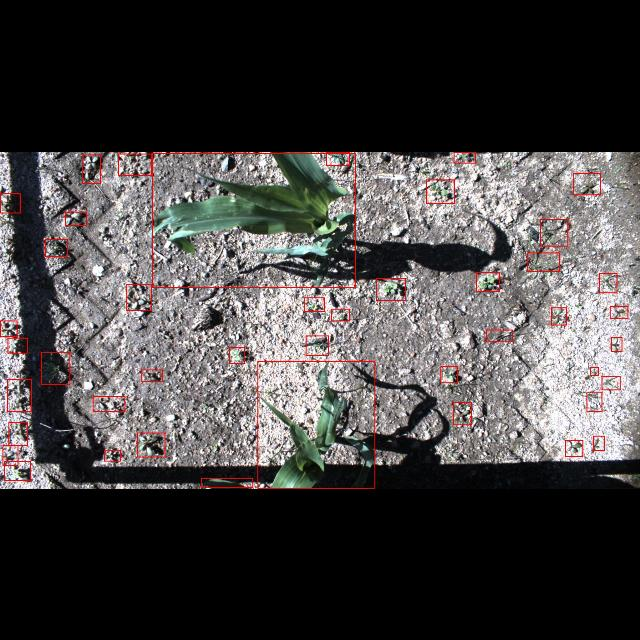crop: (152, 152, 356, 288), (258, 360, 374, 488), (201, 478, 253, 487)
weed: (41, 352, 70, 384), (540, 218, 568, 246), (7, 379, 31, 411), (118, 153, 152, 174), (126, 284, 152, 310), (426, 179, 454, 203), (137, 433, 165, 457), (376, 278, 406, 300), (528, 252, 560, 270), (574, 172, 600, 194), (93, 396, 125, 412), (82, 154, 100, 182), (4, 462, 30, 481), (8, 422, 28, 446), (306, 335, 328, 355), (44, 238, 68, 256), (476, 272, 500, 290), (0, 192, 20, 212), (453, 402, 471, 424), (2, 445, 18, 465), (600, 272, 616, 292), (586, 391, 602, 411), (486, 329, 512, 341), (440, 366, 458, 382), (66, 211, 86, 225), (8, 338, 28, 352), (304, 297, 324, 311), (326, 152, 349, 164), (1, 320, 17, 336), (566, 440, 582, 456), (142, 369, 162, 381), (602, 376, 620, 389), (230, 347, 244, 363), (552, 308, 566, 324), (454, 152, 476, 162), (331, 308, 349, 320), (610, 305, 628, 317), (104, 450, 120, 460), (612, 336, 622, 352), (594, 436, 604, 450), (590, 367, 598, 375)
